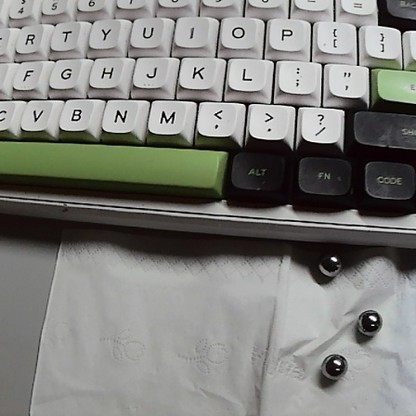ironball: (346, 303, 383, 349), (310, 246, 356, 280), (325, 350, 349, 381)
